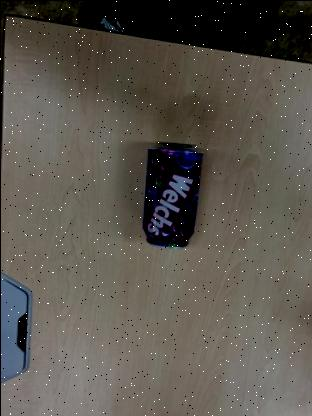Can: (141, 137, 204, 251)
